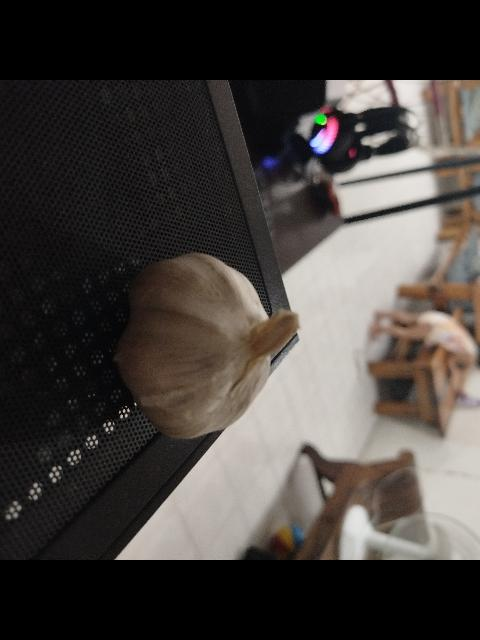garlic: (112, 252, 300, 440)
